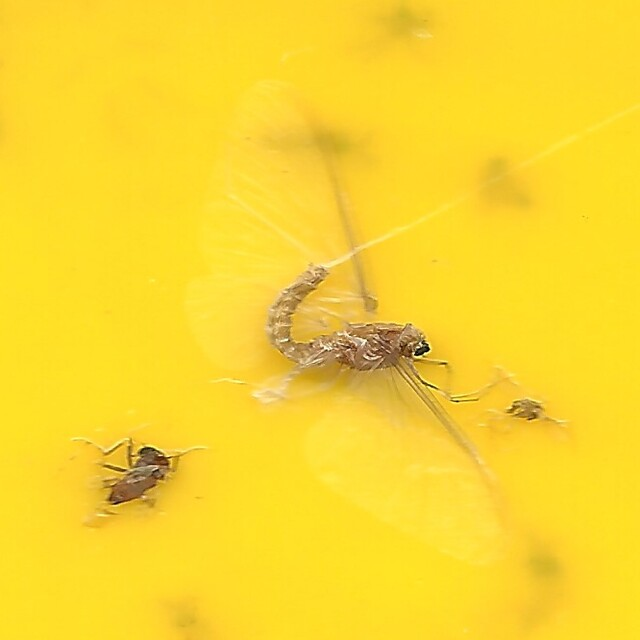Ephemeroptera: (219, 75, 544, 565)
Nematocera: (96, 442, 185, 514)
